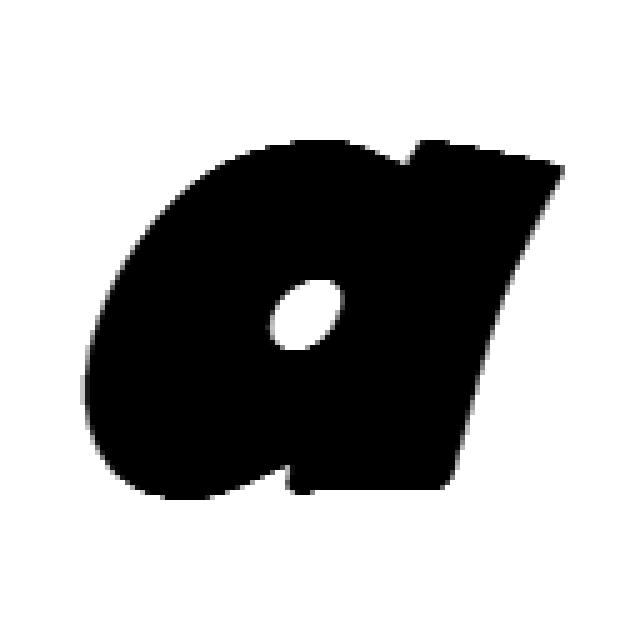A: (78, 133, 570, 505)
